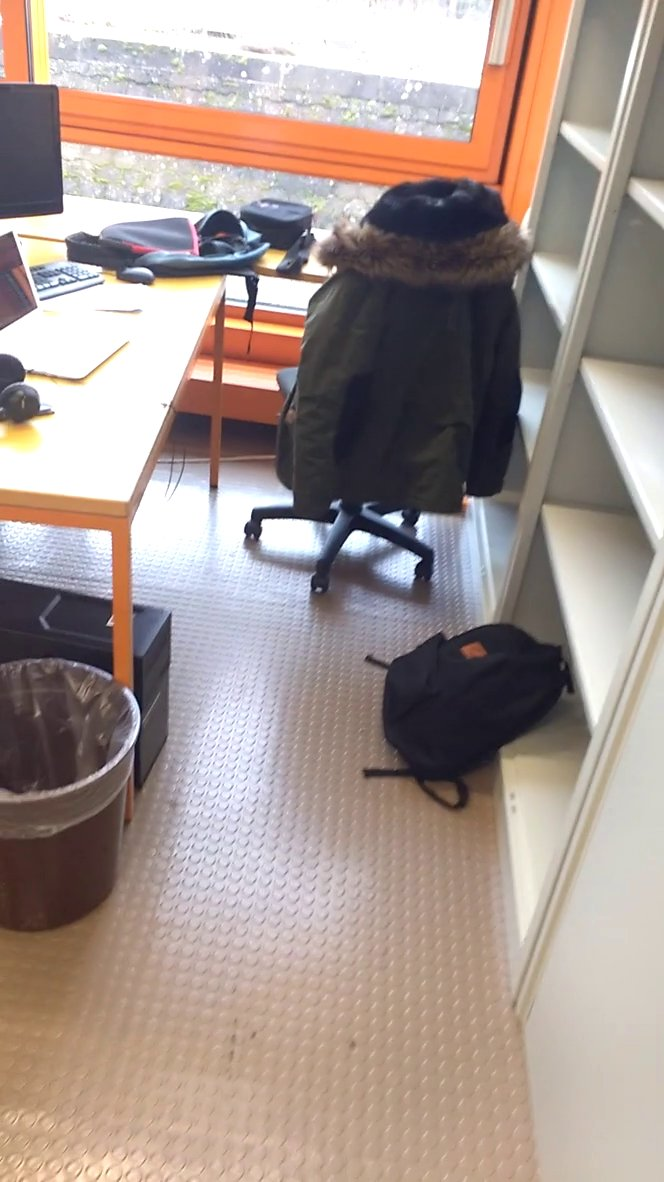bag: (359, 607, 581, 825)
bin: (1, 633, 163, 945)
laptop: (2, 203, 137, 387)
